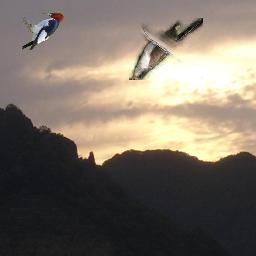Cuckoo: (129, 18, 203, 80)
Woodpecker: (19, 10, 65, 50)
